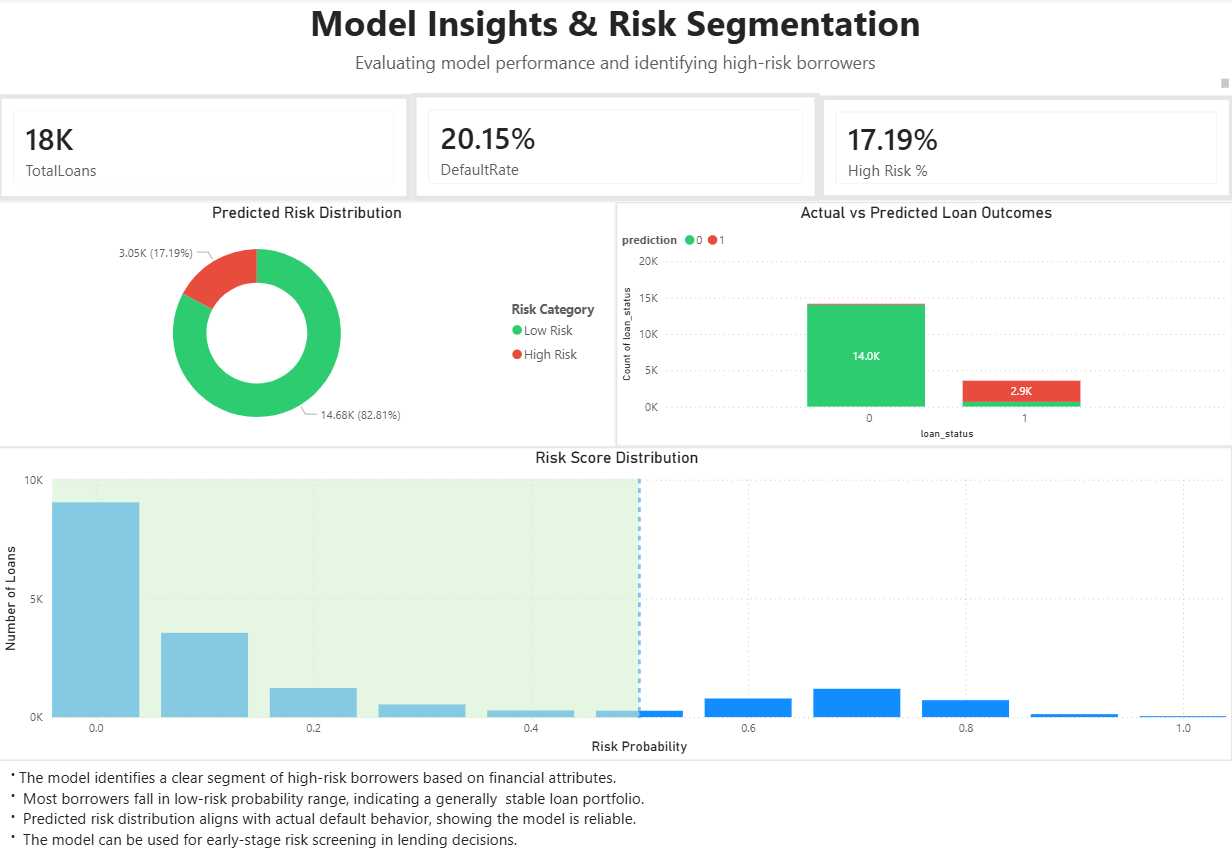

The dashboard page shown, as its layout file describes it:
{"tool":"powerbi","page":{"name":"Page 3","canvas":[1300,900],"ordinal":2},"visuals":[{"type":"donutChart","title":"Predicted Risk Distribution","fields":{"Category":["loan_analysis_output.Risk Category"],"Y":["CountNonNull(loan_analysis_output.Risk Category)"]},"box":[0,214.4,650.1,257.8],"z":0},{"type":"columnChart","title":"Actual vs Predicted Loan Outcomes","fields":{"Category":["loan_analysis_output.loan_status"],"Series":["loan_analysis_output.prediction"],"Y":["CountNonNull(loan_analysis_output.loan_status)"]},"box":[650.1,214.4,650.1,257.8],"z":1000},{"type":"textbox","box":[0,802.9,1300.3,96.7],"z":2000},{"type":"cardVisual","fields":{"Data":["loan_analysis_output.TotalLoans"]},"box":[0,100.9,435.8,112.1],"z":3000},{"type":"cardVisual","fields":{"Data":["loan_analysis_output.DefaultRate"]},"box":[435.8,99.5,428.8,113.5],"z":4000},{"type":"cardVisual","fields":{"Data":["loan_analysis_output.High Risk %"]},"box":[864.5,102.3,435.8,110.7],"z":5000},{"type":"clusteredColumnChart","title":"Risk Score Distribution","fields":{"Category":["loan_analysis_output (2).risk_score (bins)"],"Y":["CountNonNull(loan_analysis_output (2).loan_status)"]},"box":[0,472.2,1300.3,330.7],"z":6000},{"type":"textbox","title":"Model Insights & Risk Segmentation","box":[0,0,1300.3,99.5],"z":6001}]}

Visuals, with their boxes in screenshot pixels (x1, y1, x2, y2), scaled from the page's 1300x900 canvas onto the 1232x852 screenshot:
"Predicted Risk Distribution" donutChart: {"left": 0, "top": 203, "right": 616, "bottom": 447}
"Actual vs Predicted Loan Outcomes" columnChart: {"left": 616, "top": 203, "right": 1231, "bottom": 447}
textbox: {"left": 0, "top": 760, "right": 1231, "bottom": 851}
cardVisual - loan_analysis_output.TotalLoans: {"left": 0, "top": 96, "right": 413, "bottom": 202}
cardVisual - loan_analysis_output.DefaultRate: {"left": 413, "top": 94, "right": 819, "bottom": 202}
cardVisual - loan_analysis_output.High Risk %: {"left": 819, "top": 97, "right": 1231, "bottom": 202}
"Risk Score Distribution" clusteredColumnChart: {"left": 0, "top": 447, "right": 1231, "bottom": 760}
"Model Insights & Risk Segmentation" textbox: {"left": 0, "top": 0, "right": 1231, "bottom": 94}
